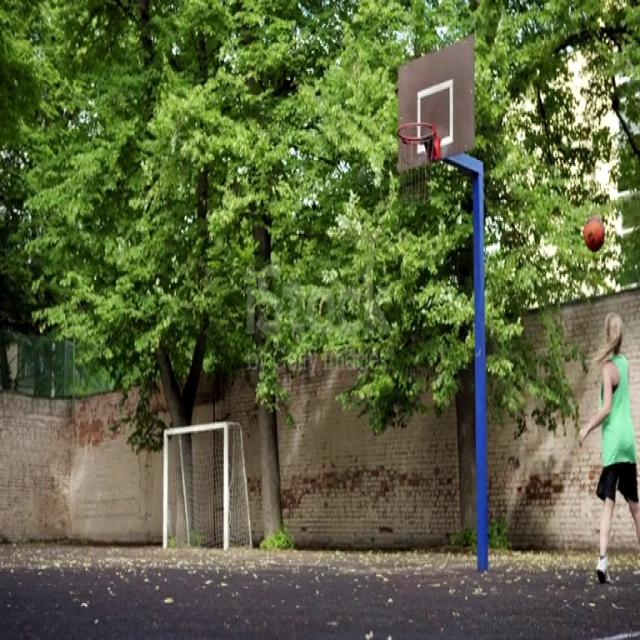ball: (582, 216, 605, 254)
